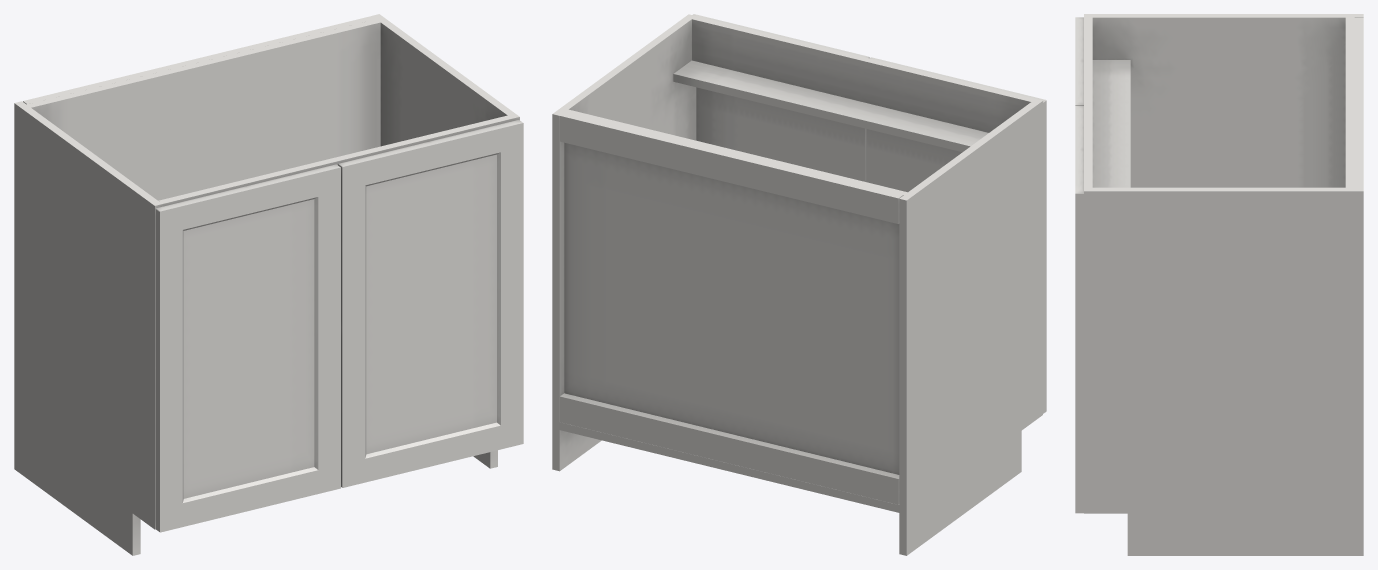
Rendered from sink-base-2-door-doors-on.glb.
3 renders of one model, left to right at view 1: azimuth 30°, elevation 25°; view 2: azimuth 150°, elevation 25°; view 3: azimuth 270°, elevation 25°, orthographic. The views are drawn at different scales.
Parts seen in each view (by area): view 1: part_1, part_0; view 2: part_0, part_1; view 3: part_0, part_1.
Part boxes in pixels (x1,y1,x2,y2): part_1: (155,120,523,532); part_0: (14,14,519,555); part_0: (552,14,1042,555); part_1: (692,14,1046,413); part_0: (1084,14,1363,555); part_1: (1075,17,1083,513).
Bounding box in the file's own units: 0.9144 × 0.8763 × 0.6286.
2 materials, 2 textured.
